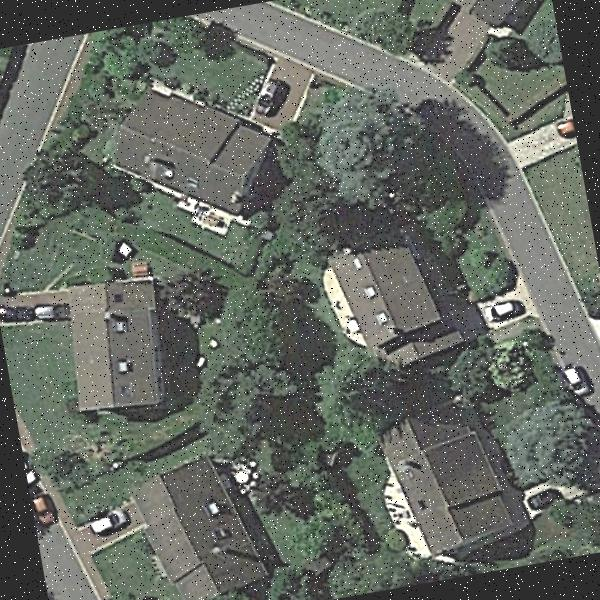Buildings: (113, 76, 260, 220), (56, 276, 178, 418), (387, 401, 502, 548), (147, 453, 254, 600), (334, 224, 446, 362), (453, 0, 552, 23)
